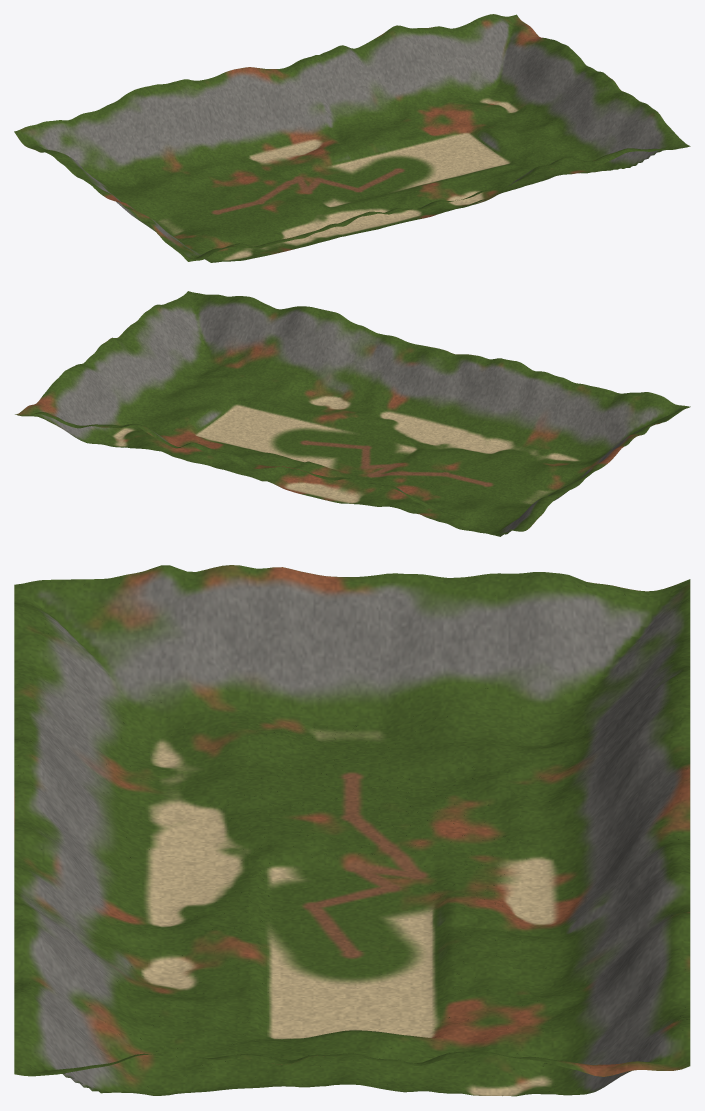
The model's file is SM_Art_Terrain_L_TheWakeAfter.gltf.
The picture shows the model from 3 angles, top to bottom: view 1: azimuth 30°, elevation 25°; view 2: azimuth 150°, elevation 25°; view 3: azimuth 270°, elevation 25°; orthographic projection. The views are drawn at different scales.
Visible parts, largest first — view 1: SM_Art_Terrain_L_TheWakeAfter; view 2: SM_Art_Terrain_L_TheWakeAfter; view 3: SM_Art_Terrain_L_TheWakeAfter.
Boxes of the visible parts, x1,y1,x2,y2 form: SM_Art_Terrain_L_TheWakeAfter: [14, 14, 690, 262]; SM_Art_Terrain_L_TheWakeAfter: [15, 291, 690, 536]; SM_Art_Terrain_L_TheWakeAfter: [14, 565, 690, 1096].
Size of the model in its own units: 261 by 30.45 by 156.
2 materials, 2 textured.
